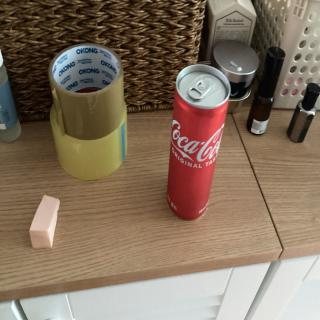cocacola: (156, 59, 240, 226)
